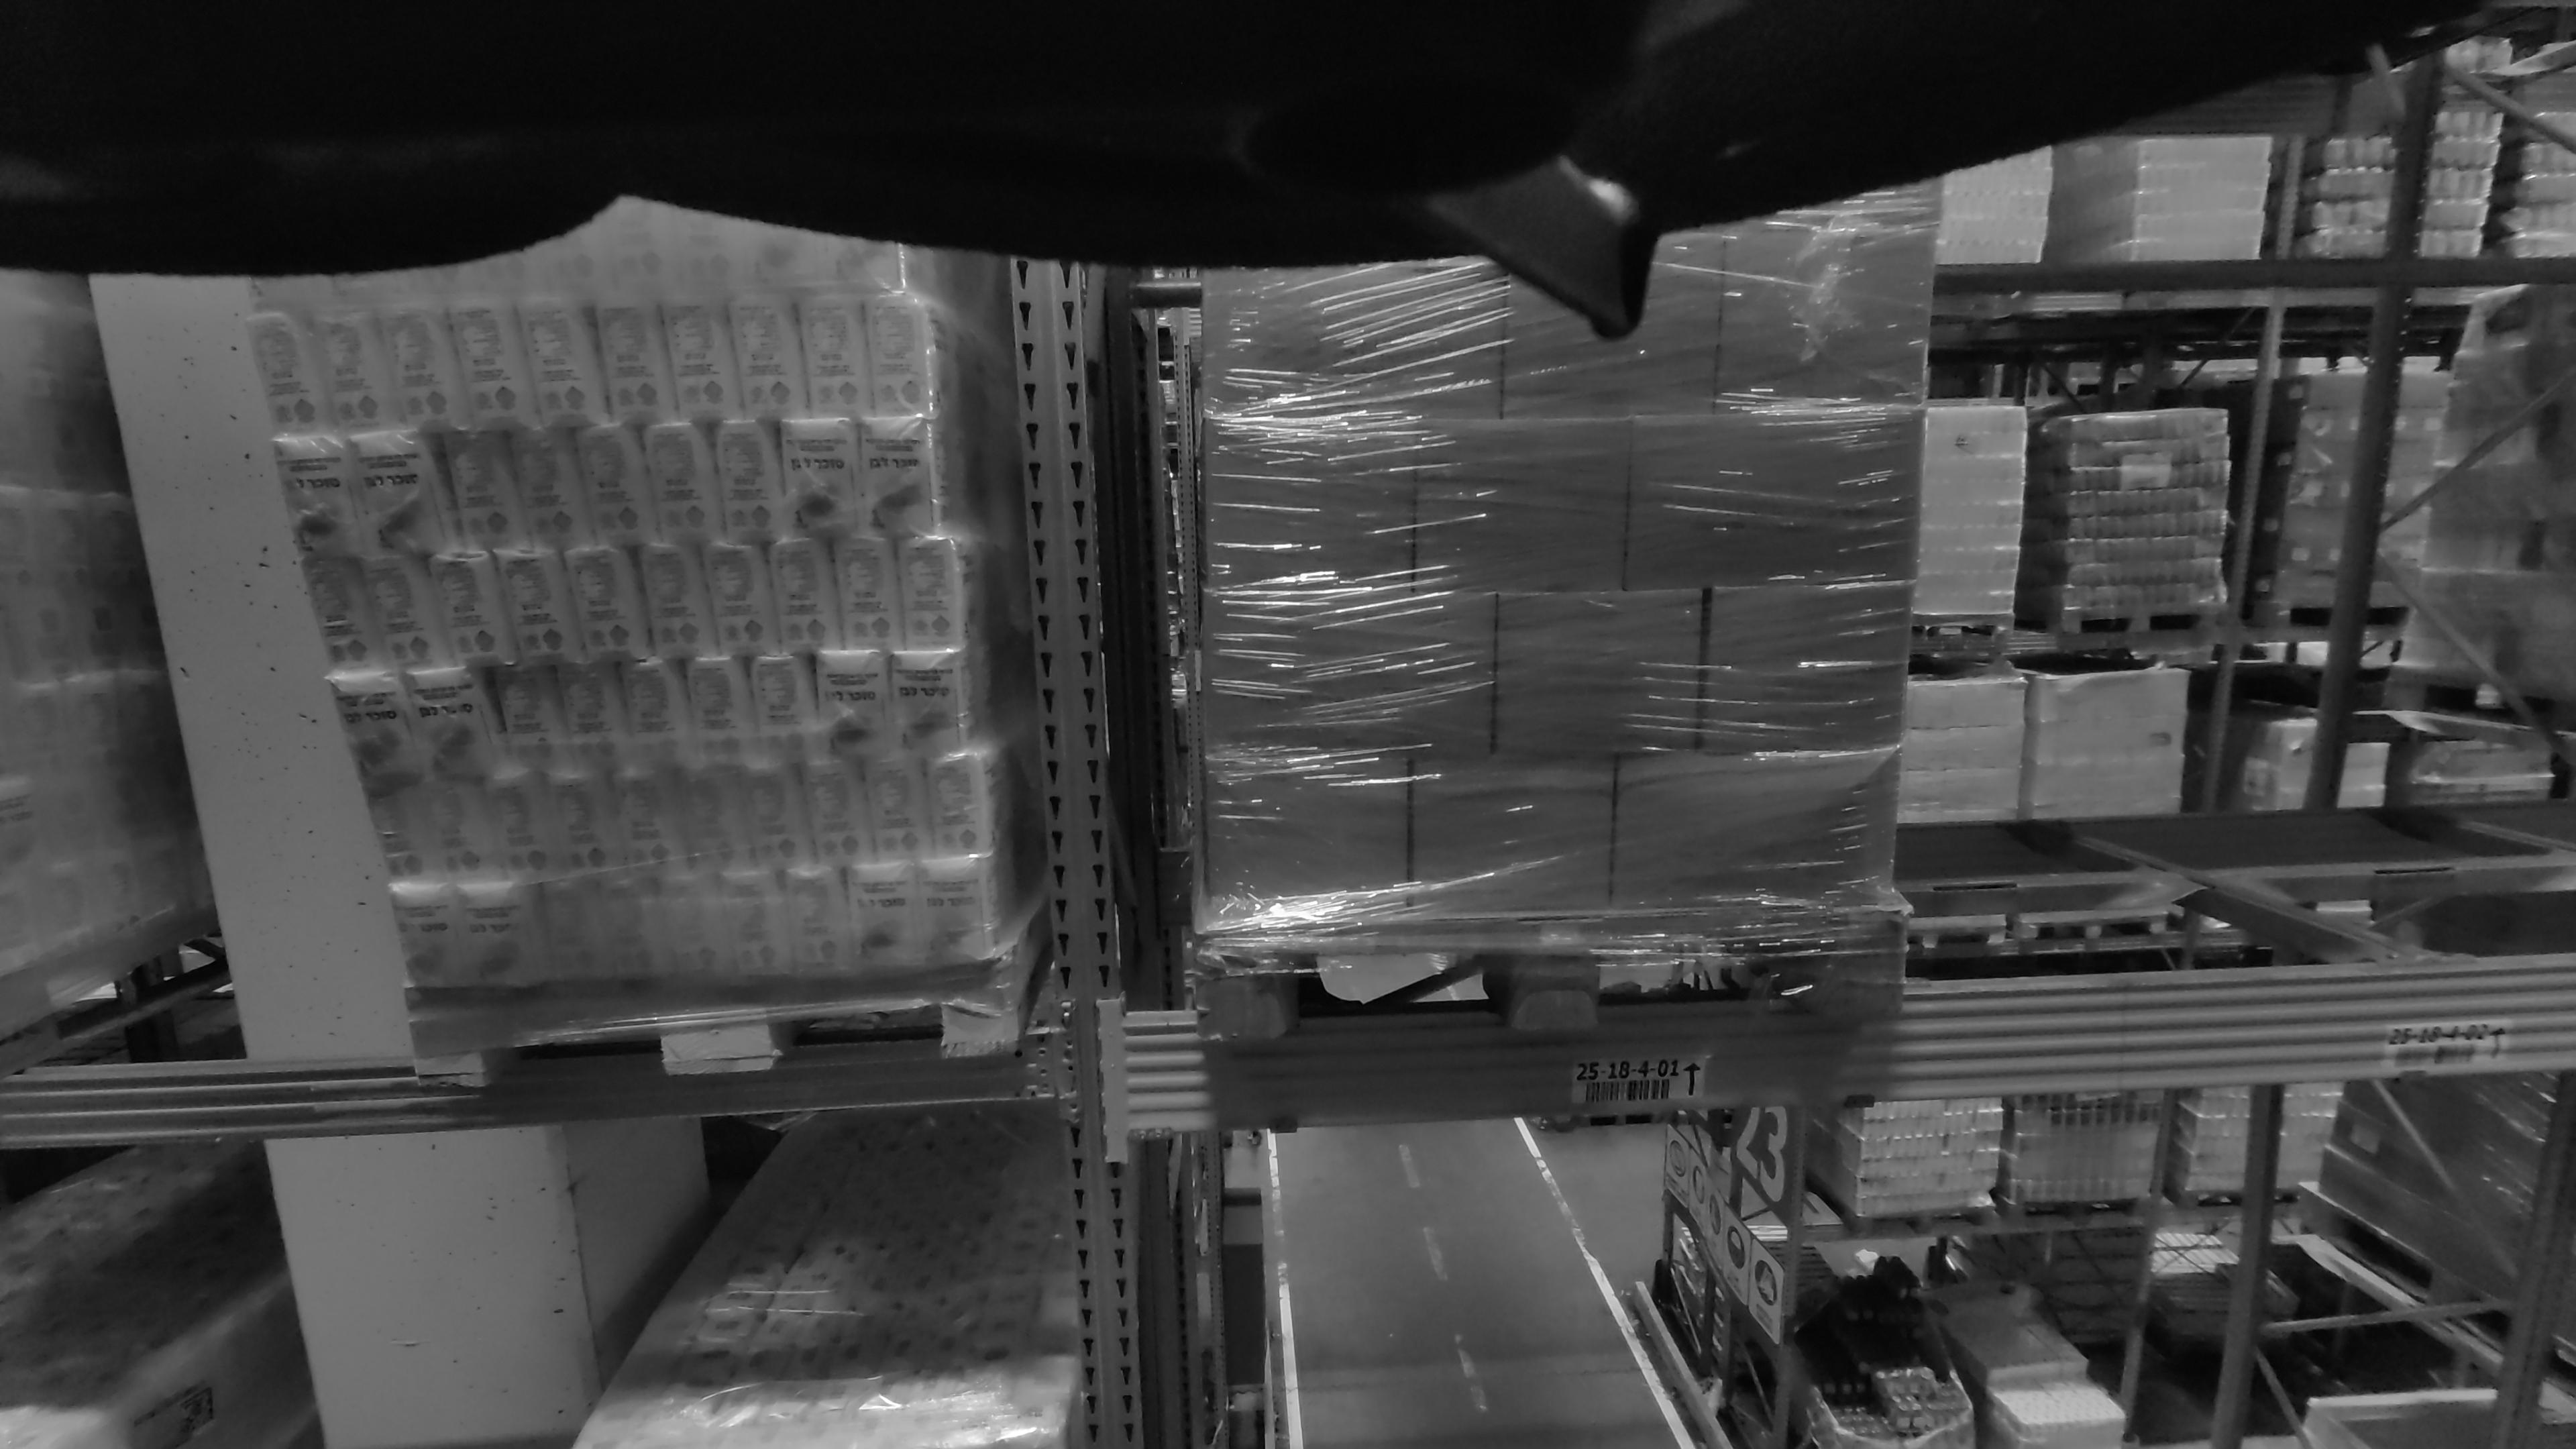empty-shelf: (1927, 13, 2576, 939)
